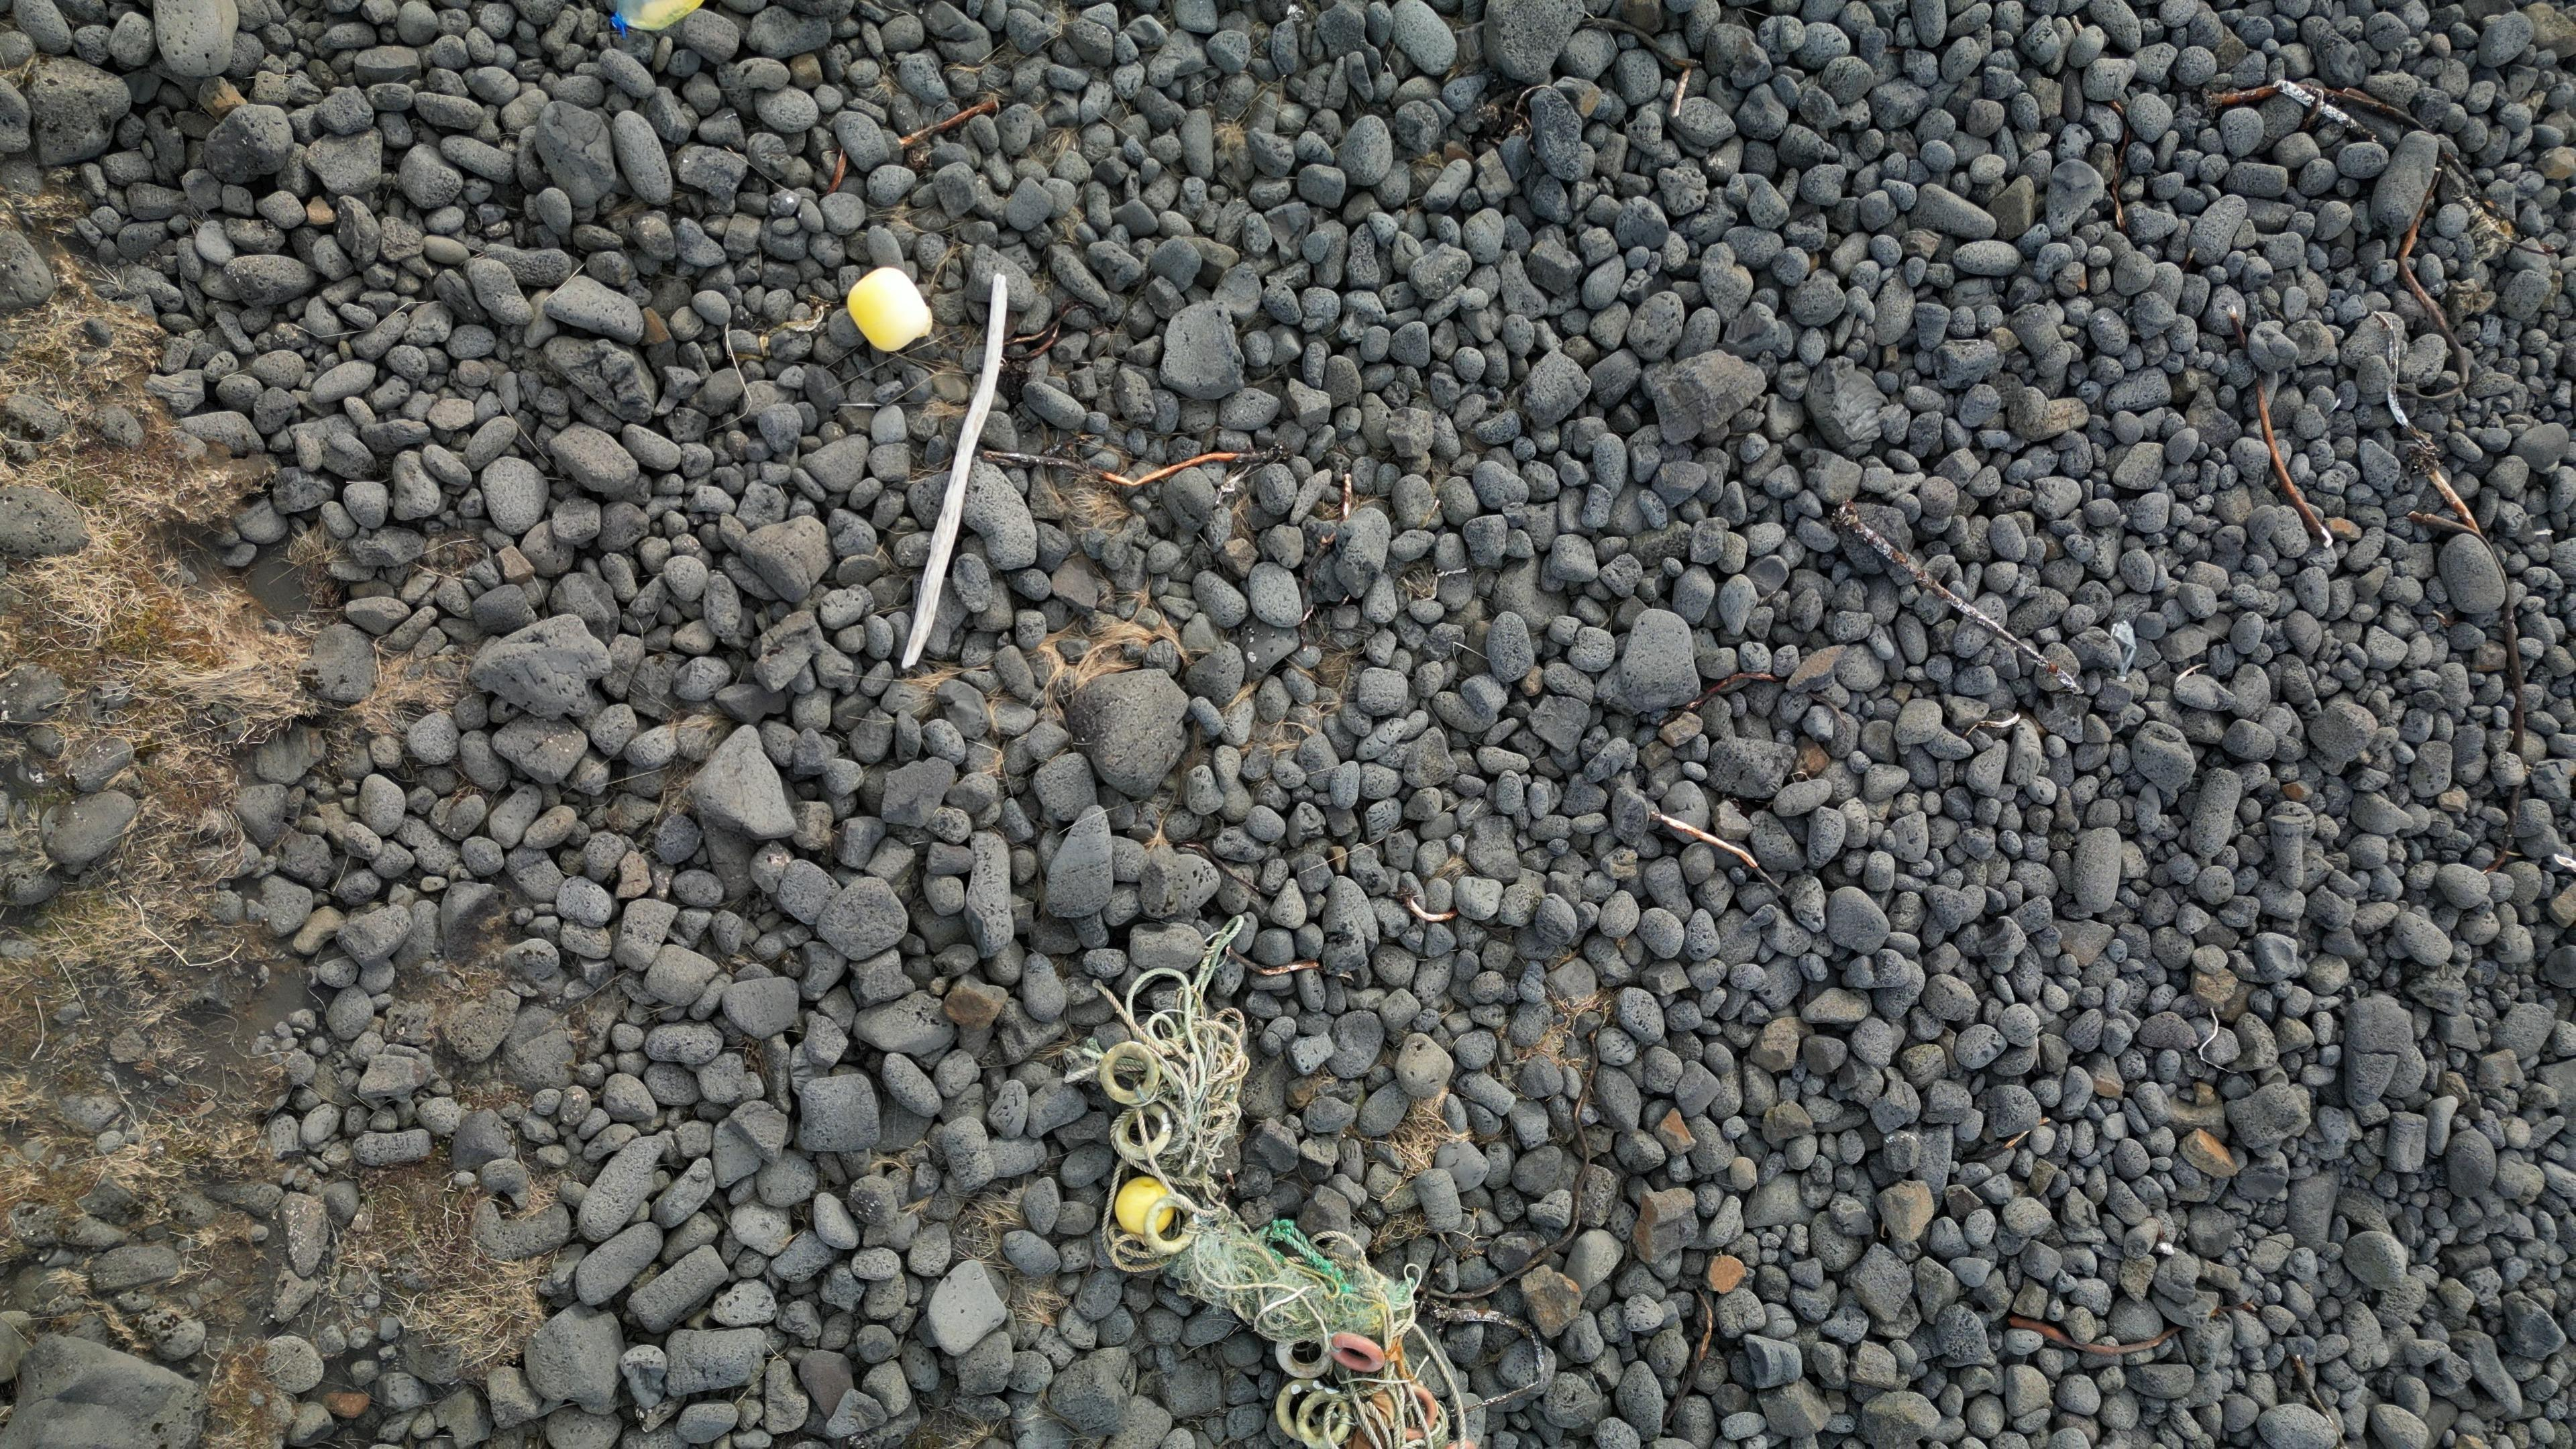trash: (1092, 925, 1468, 1449), (846, 267, 931, 352), (614, 0, 704, 30)
